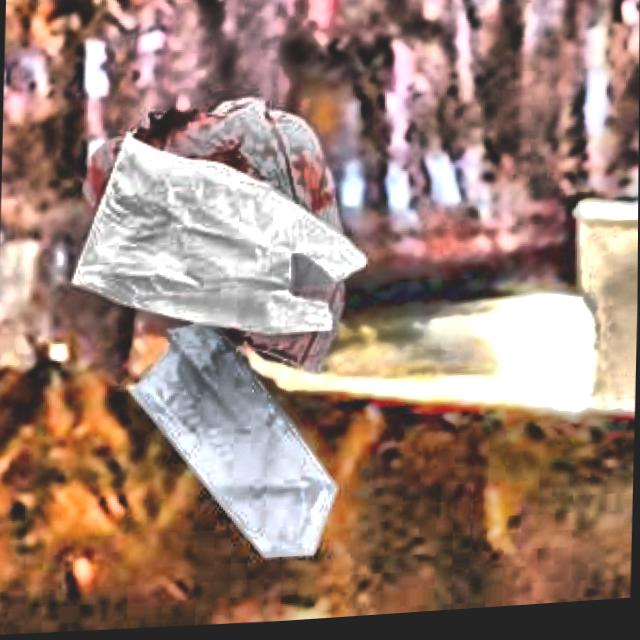Plastic: (57, 79, 362, 394), (121, 315, 345, 587)
